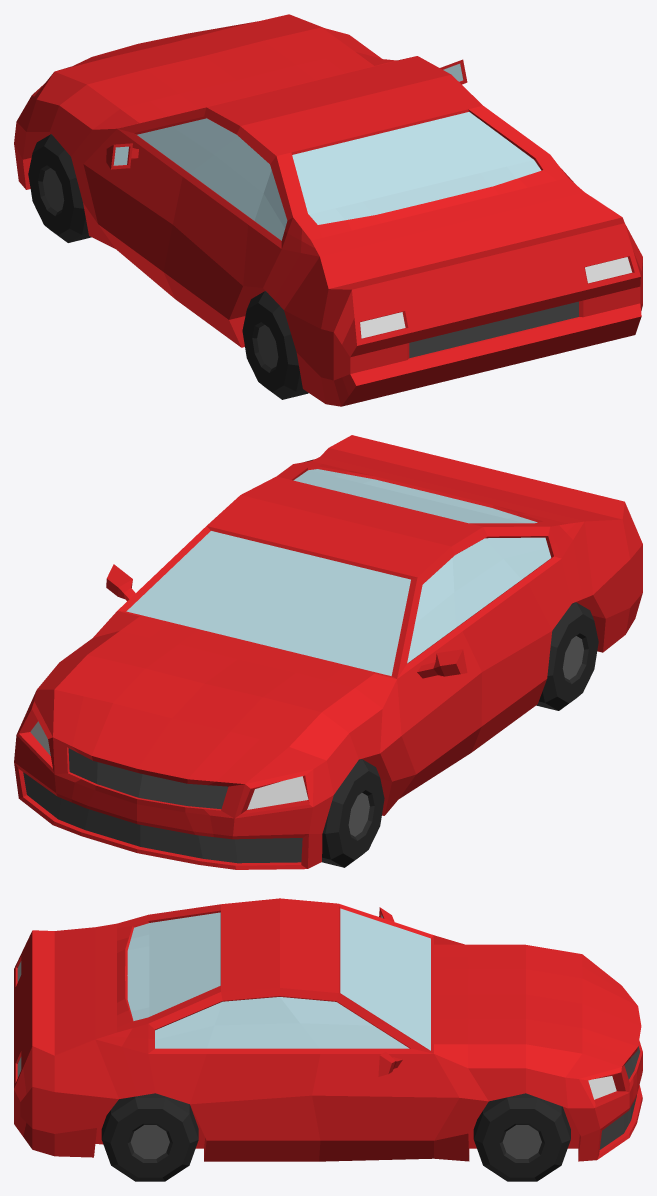
File: car.glb
3 views of the same model, one above another, from view 1: azimuth 30°, elevation 25°; view 2: azimuth 150°, elevation 25°; view 3: azimuth 270°, elevation 25° (orthographic). The views are drawn at different scales.
Visible parts, largest first — view 1: Body_Cube.001, BackLeftWheel_Cylinder.001, FrontLeftWheel_Cylinder; view 2: Body_Cube.001, FrontLeftWheel_Cylinder, BackLeftWheel_Cylinder.001; view 3: Body_Cube.001, BackRightWheel_Cylinder.003, FrontRightWheel_Cylinder.002.
Part boxes in pixels (bbox=[...]): Body_Cube.001: bbox=[14, 14, 642, 406]; BackLeftWheel_Cylinder.001: bbox=[242, 291, 308, 399]; FrontLeftWheel_Cylinder: bbox=[28, 134, 91, 242]; Body_Cube.001: bbox=[14, 435, 642, 869]; FrontLeftWheel_Cylinder: bbox=[322, 759, 384, 867]; BackLeftWheel_Cylinder.001: bbox=[536, 602, 598, 710]; Body_Cube.001: bbox=[14, 898, 642, 1161]; BackRightWheel_Cylinder.003: bbox=[101, 1093, 198, 1181]; FrontRightWheel_Cylinder.002: bbox=[473, 1093, 570, 1181].
Bounding box in the file's own units: 1.07 × 0.5791 × 1.87.
